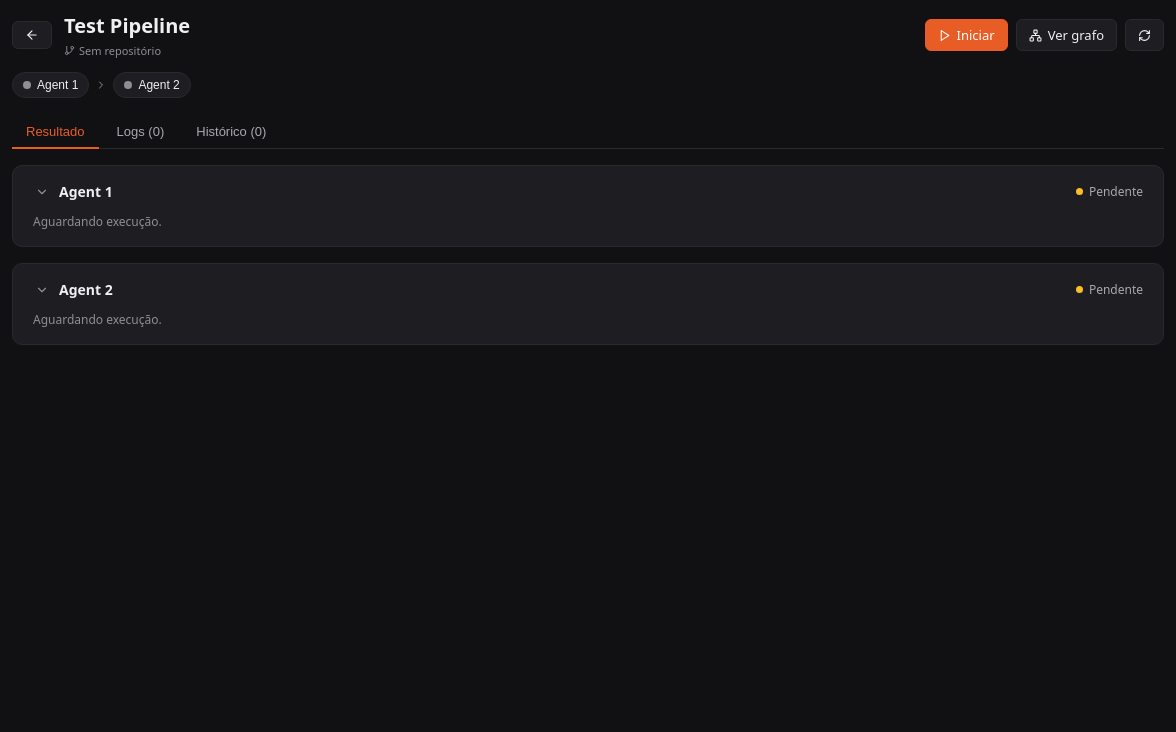
Test: PipelineMonitor › filters logs by node
This screenshot has width=1176, height=732.
Expected: the heading "Test Pipeline" is shown, x1=64 y1=12 x2=190 y2=39
Click the tab "Logs (0)". click: (140,132)
box: x1=102 y1=116 x2=178 y2=149
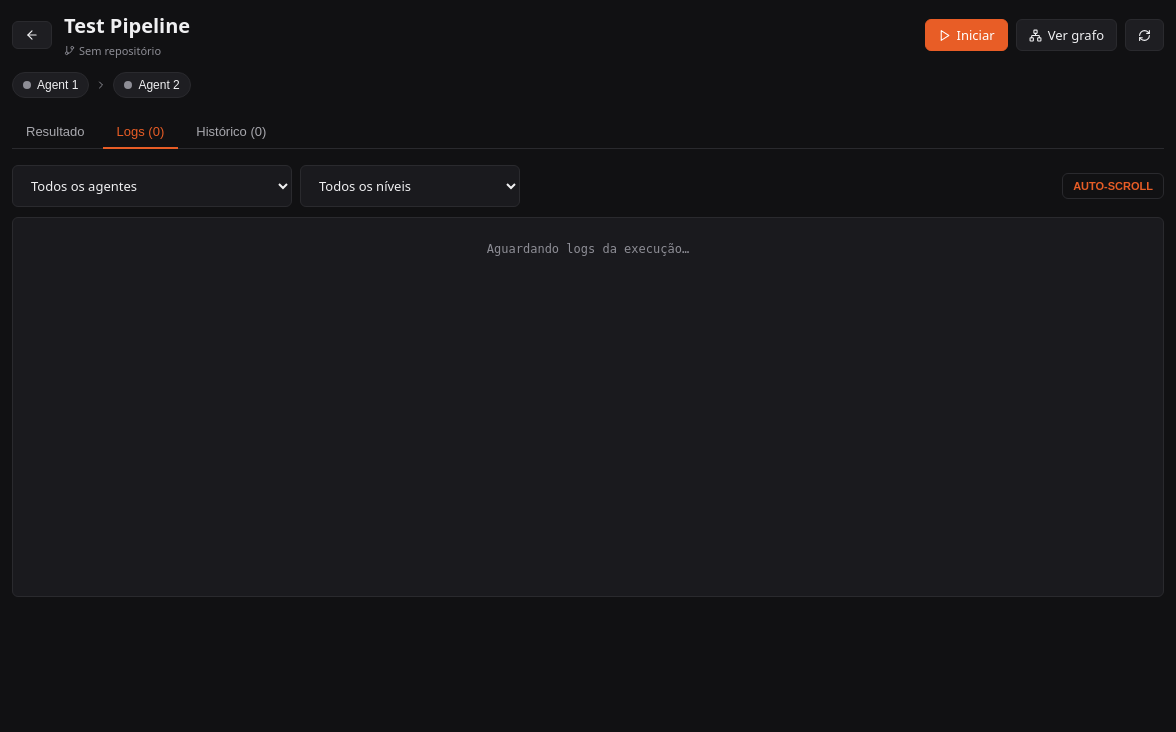
Now the dropdown named "Filtrar por agente" is shown, box x1=12 y1=165 x2=292 y2=207
Now the dropdown named "Filtrar por nível" is shown, box x1=300 y1=165 x2=520 y2=207
